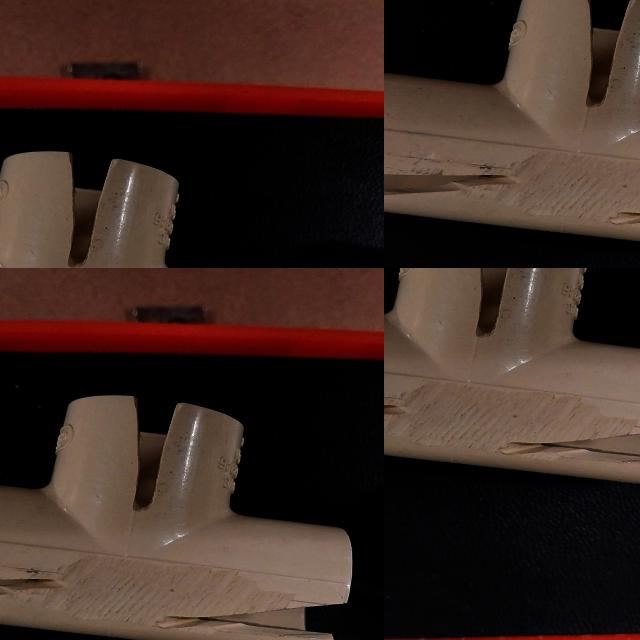Defective: (48, 554, 152, 640), (513, 428, 640, 475), (41, 301, 136, 353), (475, 268, 540, 341)
L Joint: (0, 271, 155, 452)
T Joint: (384, 268, 640, 485)
